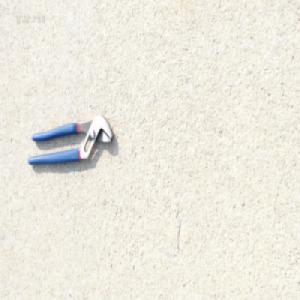Pliers: (25, 112, 113, 168)
